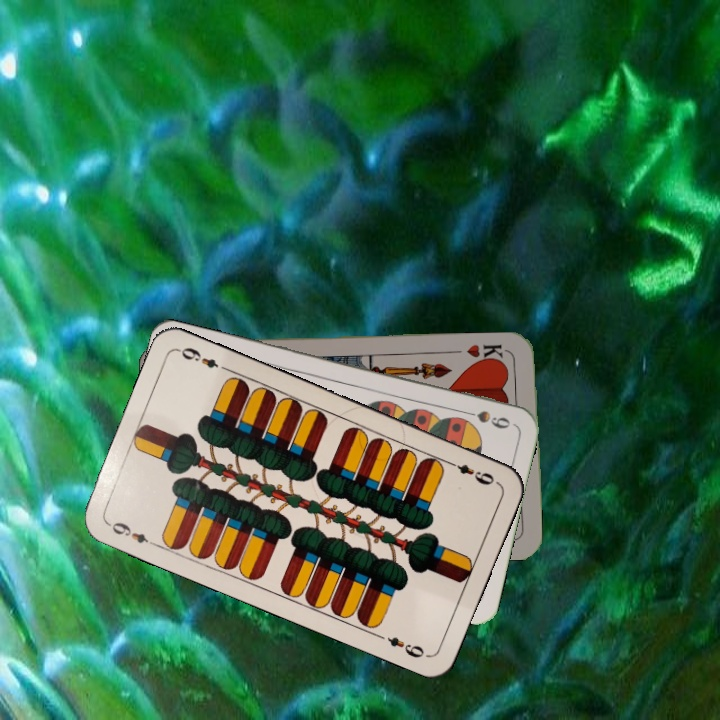E9: (104, 518, 160, 550), (443, 457, 500, 488)
HK: (463, 340, 513, 366)
S9: (456, 405, 513, 432)
